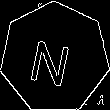N_N: (31, 29, 79, 87)
